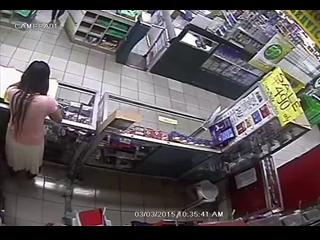Normal: (4, 60, 64, 181)
